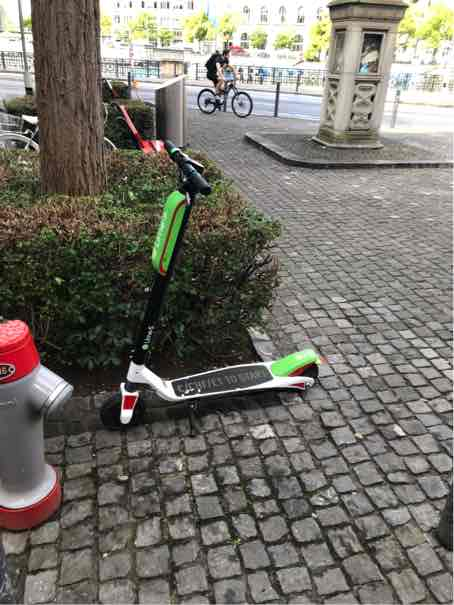scooter: (101, 131, 329, 429)
